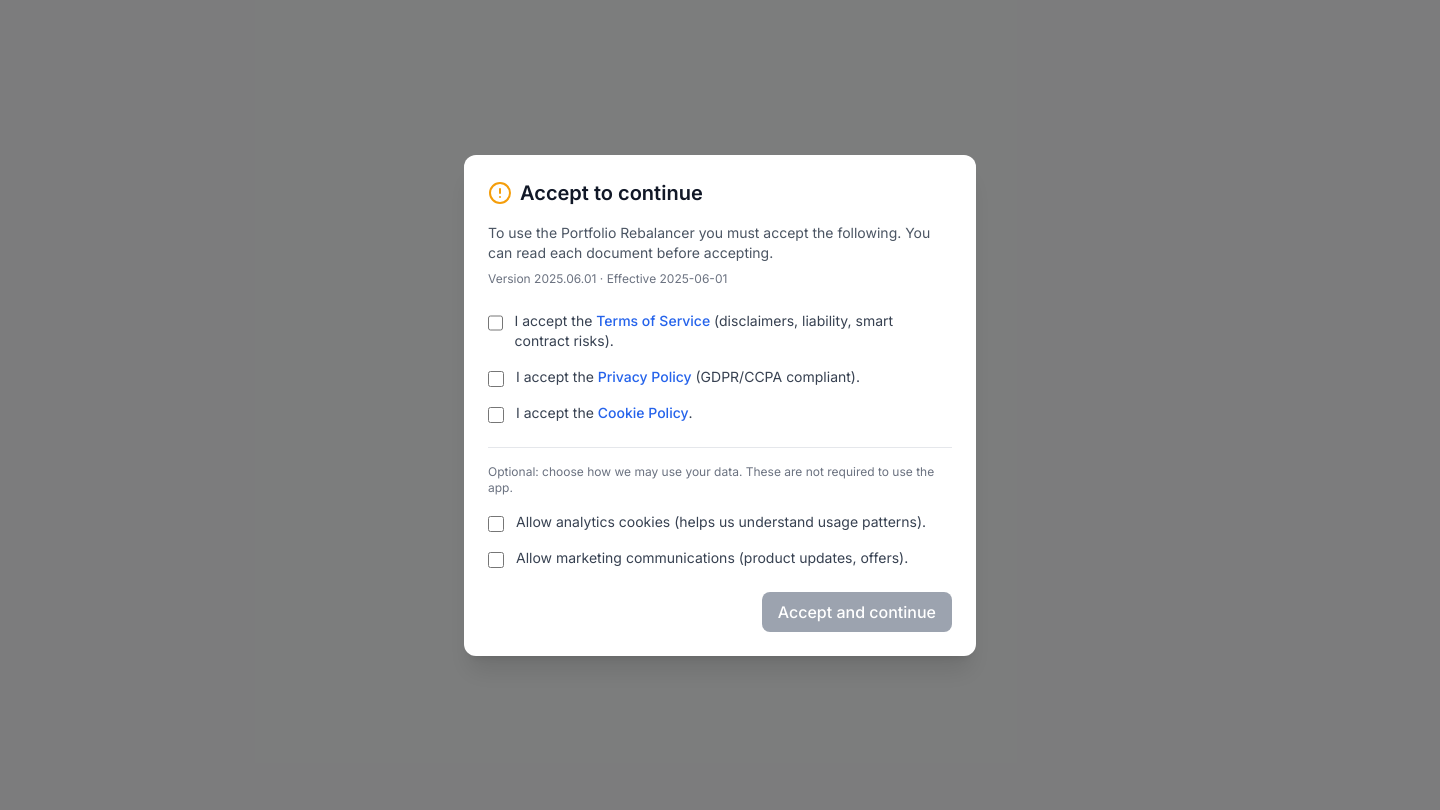
Test: ConsentModal › enables submit button when all checkboxes are checked
Click the 1st checkbox at (495, 322), box [488,314,502,330]
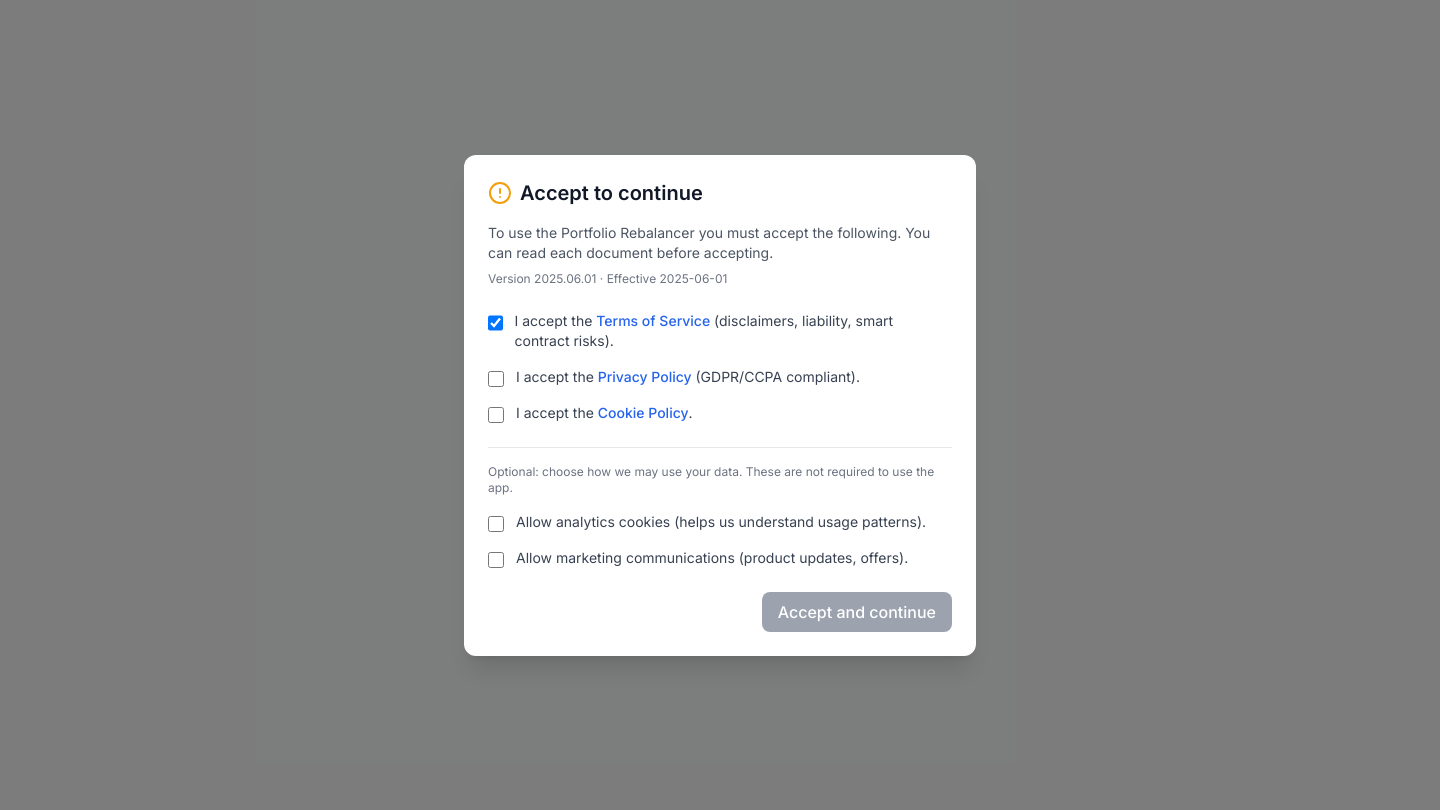
Click the checkbox labelled "I accept the Privacy Policy (GDPR/CCPA compliant)." at (496, 378), box [488,370,504,386]
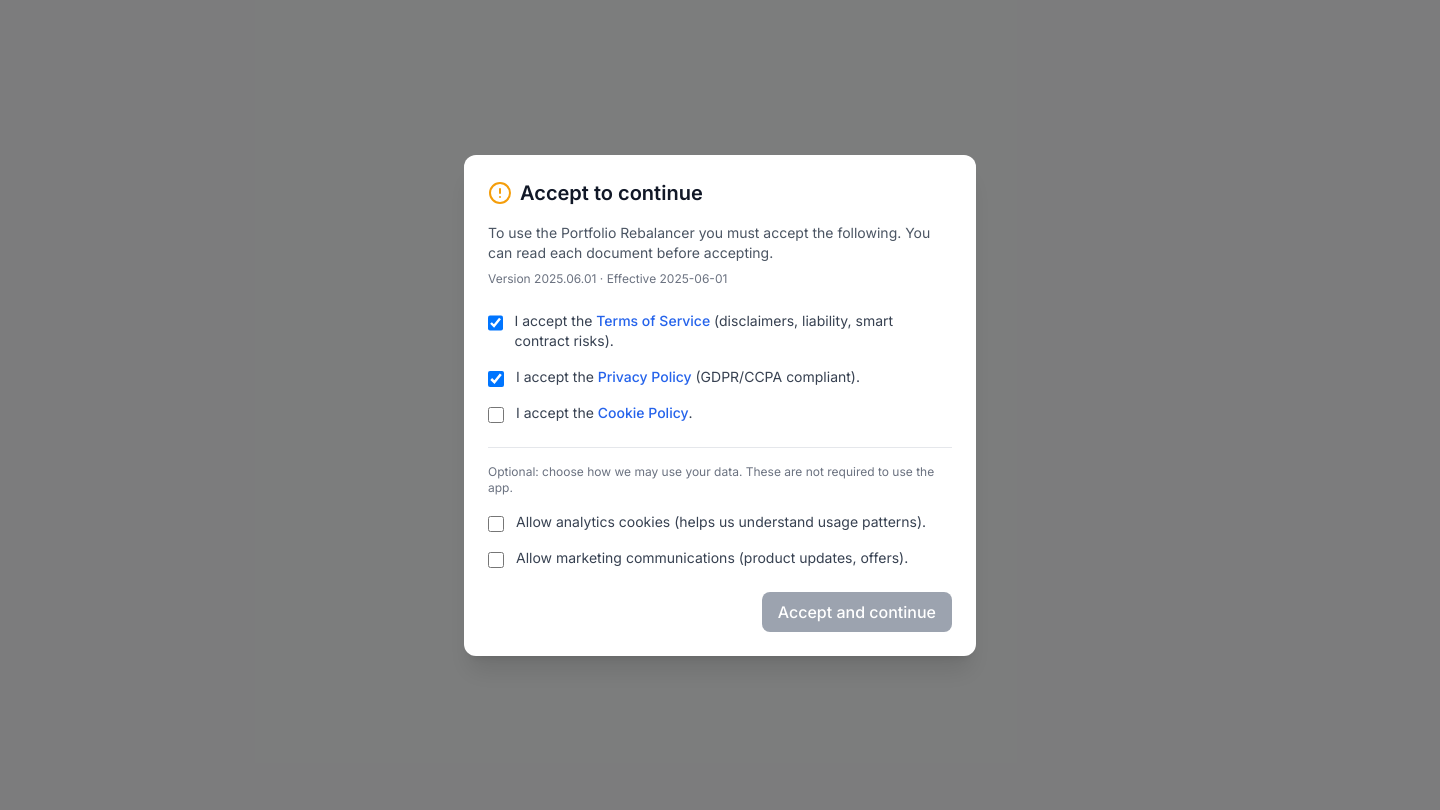
Click the checkbox labelled "I accept the Cookie Policy ." at (496, 414), box [488,406,504,422]
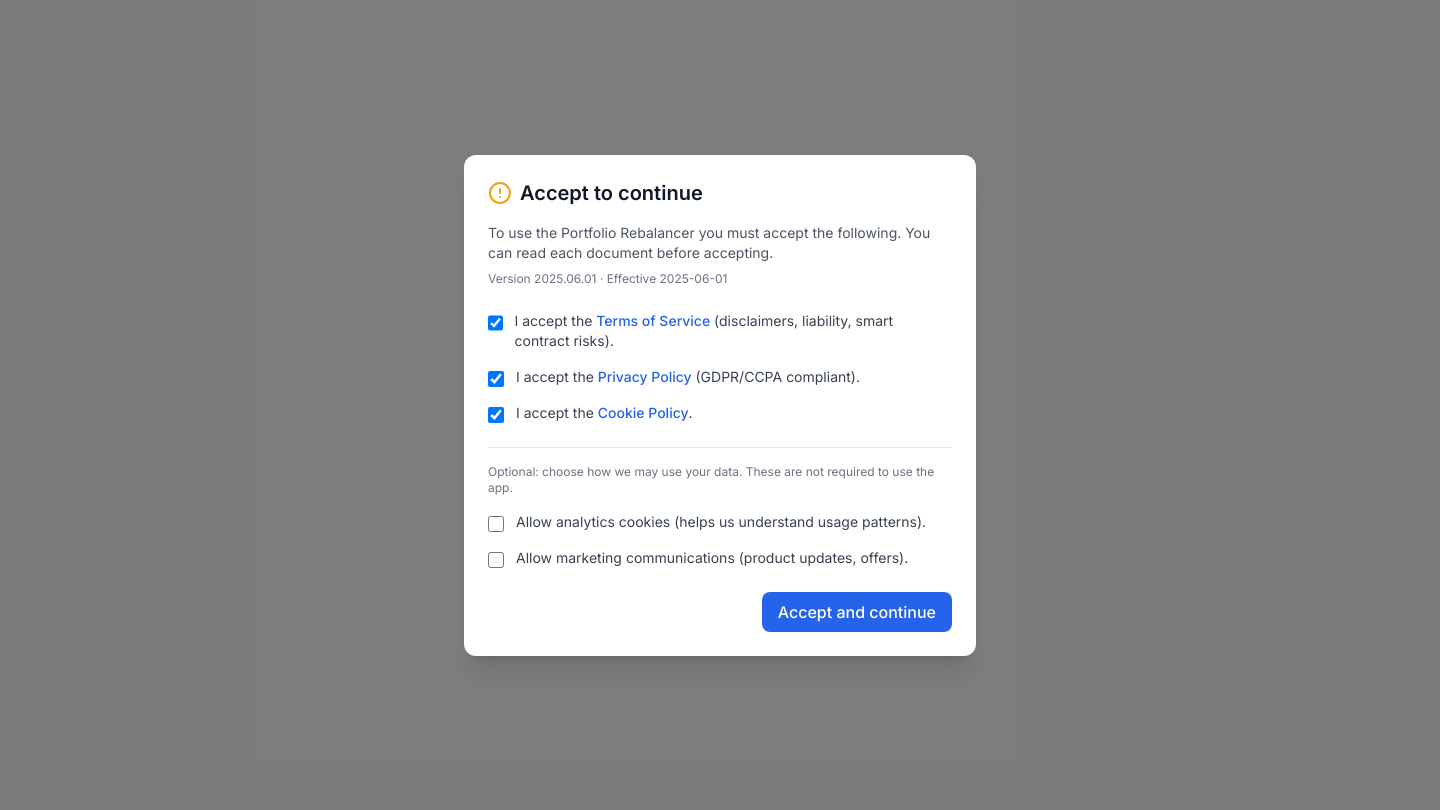
Expected: the button "Accept and continue" is enabled, [762,592,952,632]
